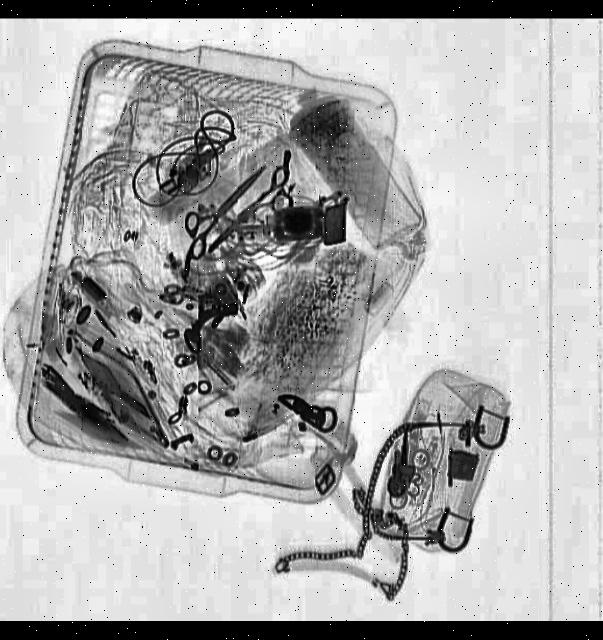Scissors: (170, 151, 284, 266), (194, 164, 308, 266)
